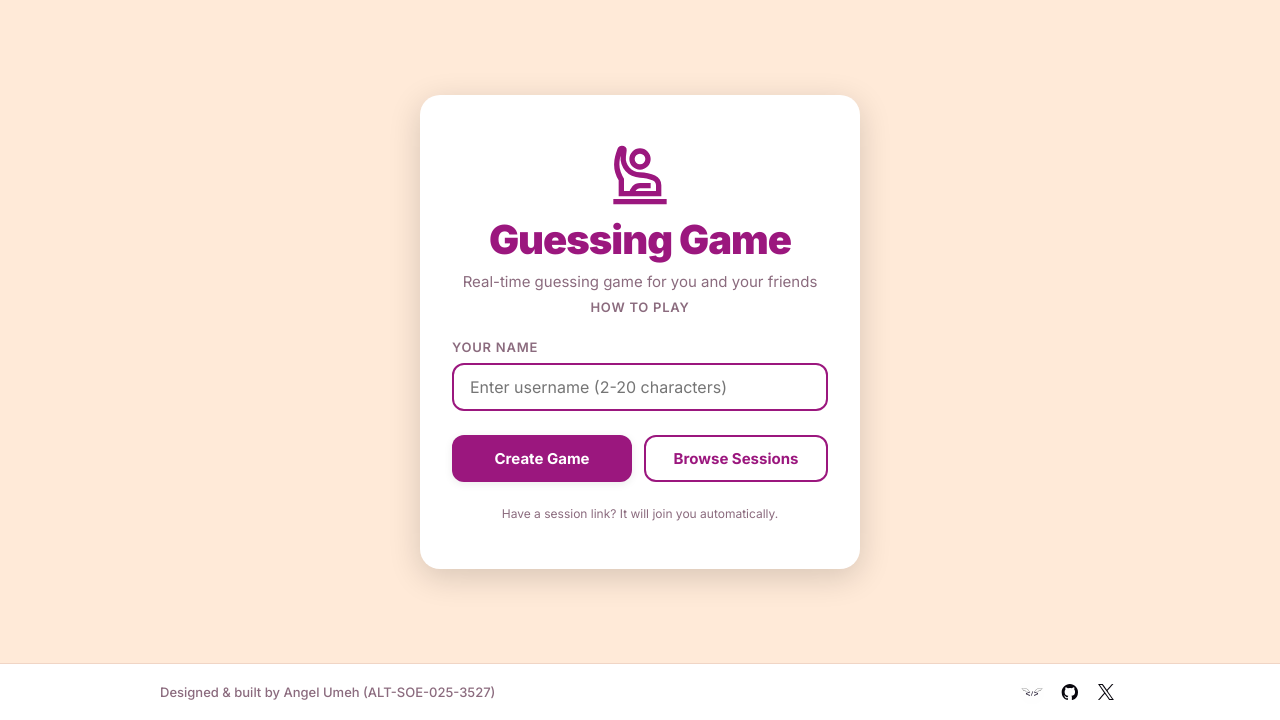
Test: HomePage › clears error when user starts typing after an error
The image size is (1280, 720).
In the field with placeholder "Enter username (2-20 characters)": (640, 386) [452,362,828,410], type "a"
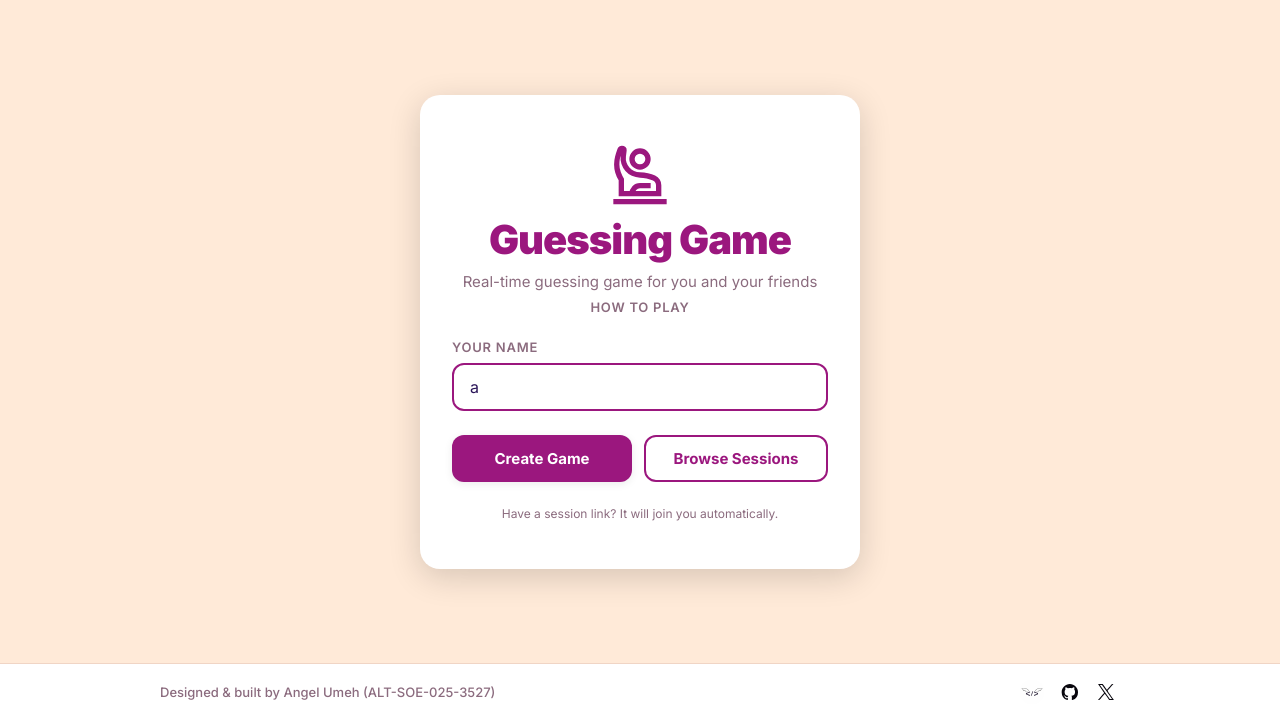
Click the button "Create Game": (542, 458) [452,434,632,482]
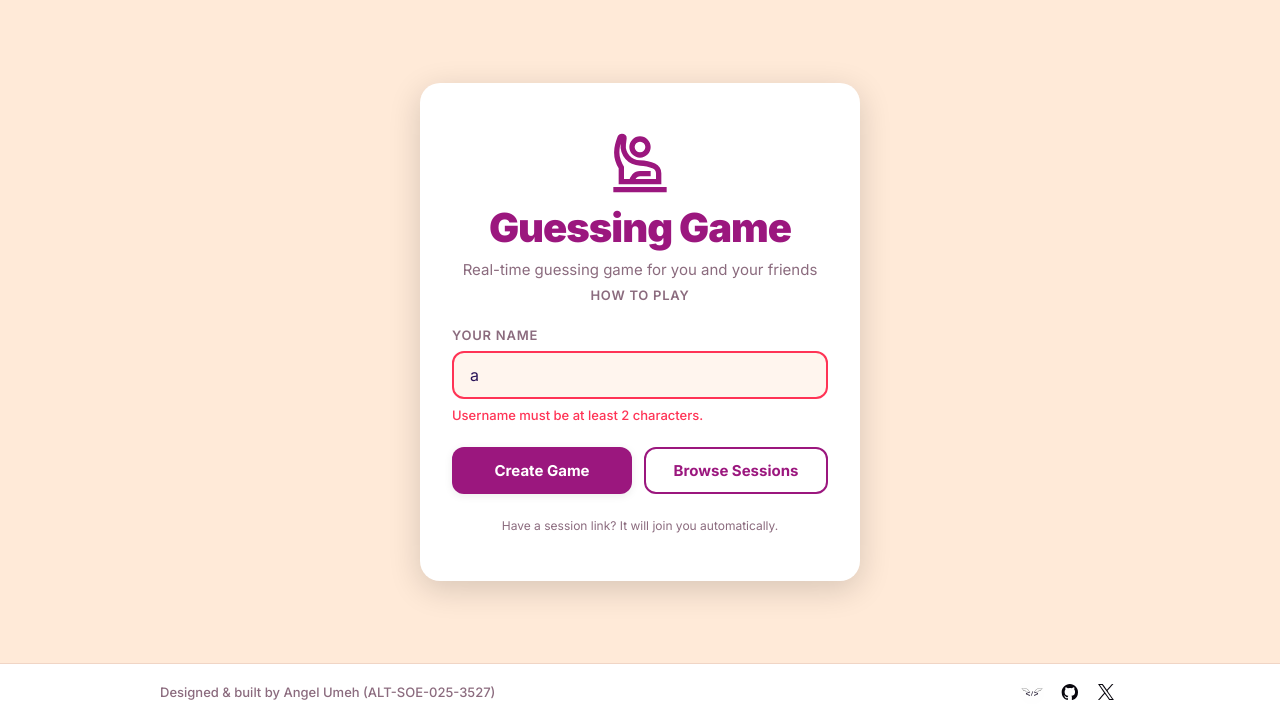
Expected: the text "Username must be at least 2 characters." is shown, [452,406,703,422]
In the field with placeholder "Enter username (2-20 characters)": (640, 374) [452,350,828,398], type "b"
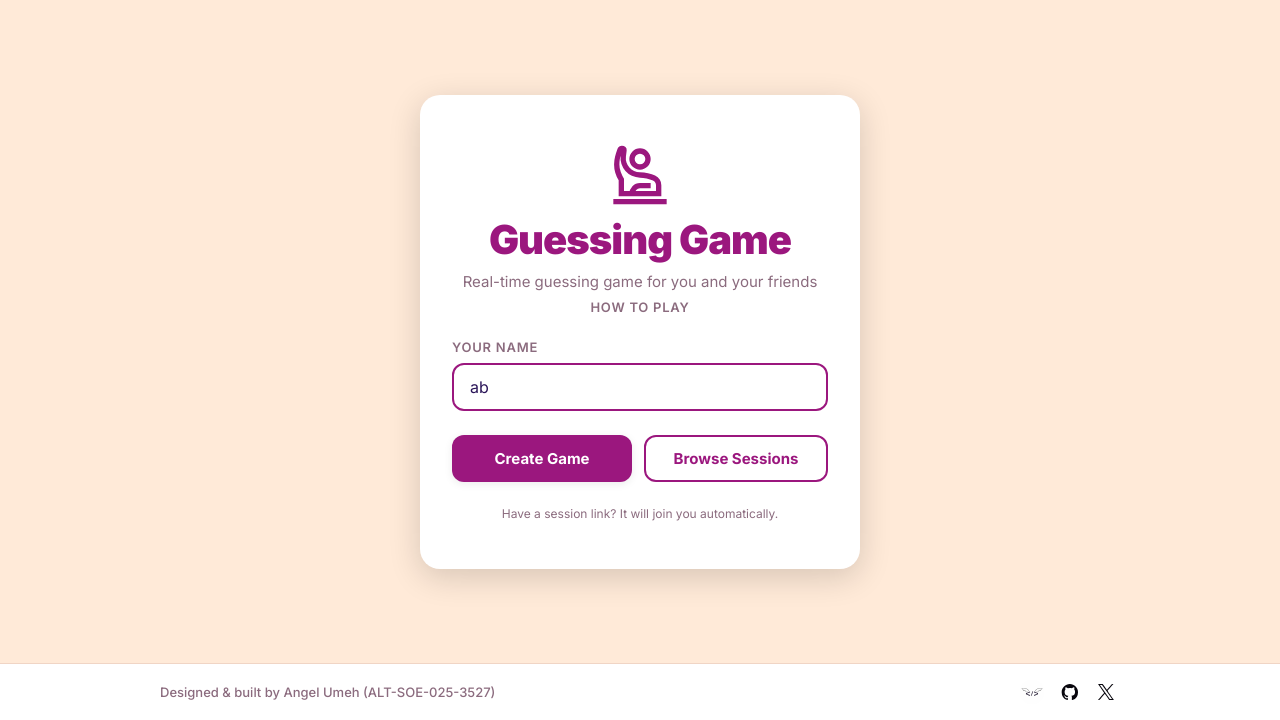
Expected: the text "at least 2 characters" is gone
